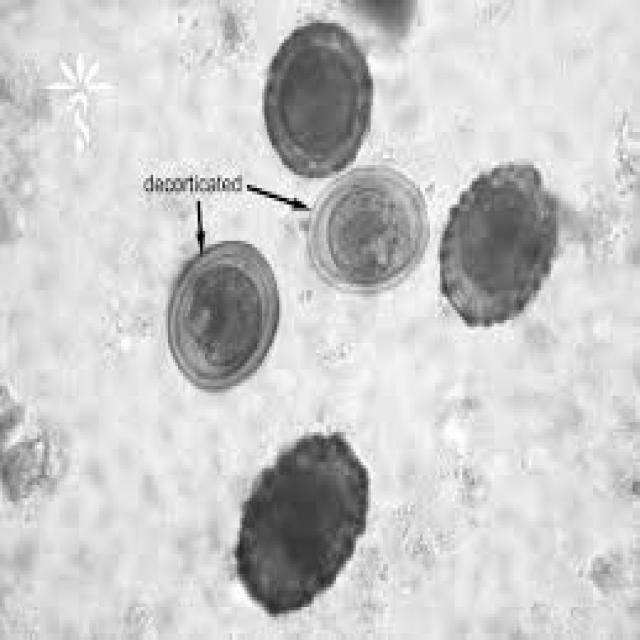Ascaris Lumbricoides: (224, 416, 374, 626), (434, 148, 567, 346), (250, 10, 380, 191), (290, 158, 441, 300), (162, 226, 285, 398)
